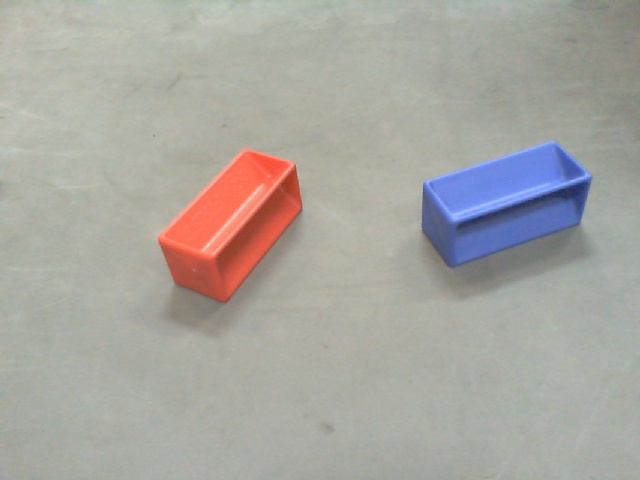BlueSample: (418, 140, 594, 272)
RedSample: (154, 146, 303, 303)
